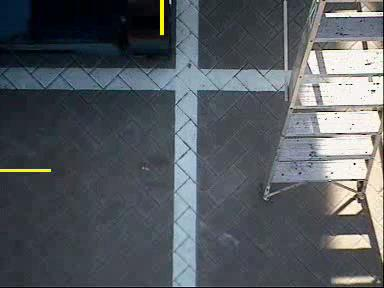groundmarker_2: (120, 106, 198, 288)
